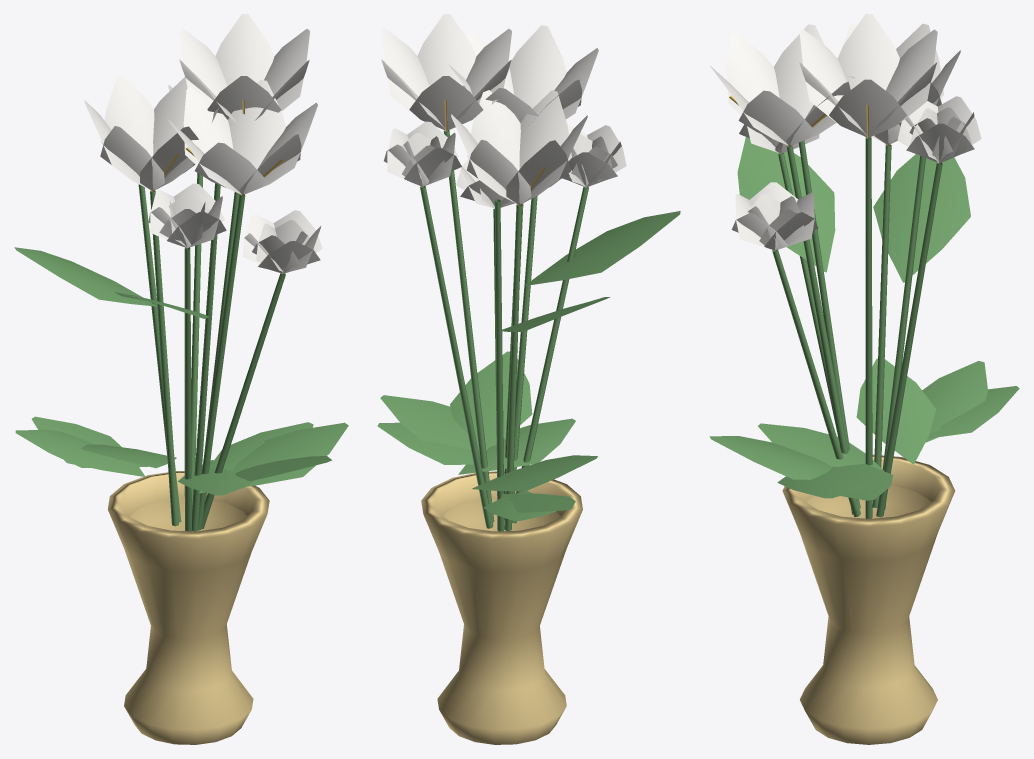
Rendered from lotprop__lot_chapel_nave_flowers_white_tall.glb.
The picture shows the model from 3 angles, left to right: view 1: azimuth 30°, elevation 25°; view 2: azimuth 150°, elevation 25°; view 3: azimuth 270°, elevation 25°; orthographic projection. The views are drawn at different scales.
Parts seen in each view (by area): view 1: lotprop__lot_chapel_nave_flowers_white_tall_white, lotprop__lot_chapel_nave_flowers_white_tall_brass, lotprop__lot_chapel_nave_flowers_white_tall_leaf; view 2: lotprop__lot_chapel_nave_flowers_white_tall_white, lotprop__lot_chapel_nave_flowers_white_tall_leaf, lotprop__lot_chapel_nave_flowers_white_tall_brass; view 3: lotprop__lot_chapel_nave_flowers_white_tall_leaf, lotprop__lot_chapel_nave_flowers_white_tall_brass, lotprop__lot_chapel_nave_flowers_white_tall_white.
Part boxes in pixels (x1,y1,x2,y2): lotprop__lot_chapel_nave_flowers_white_tall_white: (84, 14, 322, 273); lotprop__lot_chapel_nave_flowers_white_tall_brass: (108, 471, 269, 744); lotprop__lot_chapel_nave_flowers_white_tall_leaf: (14, 173, 348, 531); lotprop__lot_chapel_nave_flowers_white_tall_white: (381, 14, 626, 208); lotprop__lot_chapel_nave_flowers_white_tall_leaf: (377, 130, 680, 531); lotprop__lot_chapel_nave_flowers_white_tall_brass: (421, 471, 582, 744); lotprop__lot_chapel_nave_flowers_white_tall_leaf: (709, 137, 1019, 518); lotprop__lot_chapel_nave_flowers_white_tall_brass: (782, 454, 955, 744); lotprop__lot_chapel_nave_flowers_white_tall_white: (710, 14, 981, 250).
Bounding box in the file's own units: 0.297 × 0.6726 × 0.2693.
